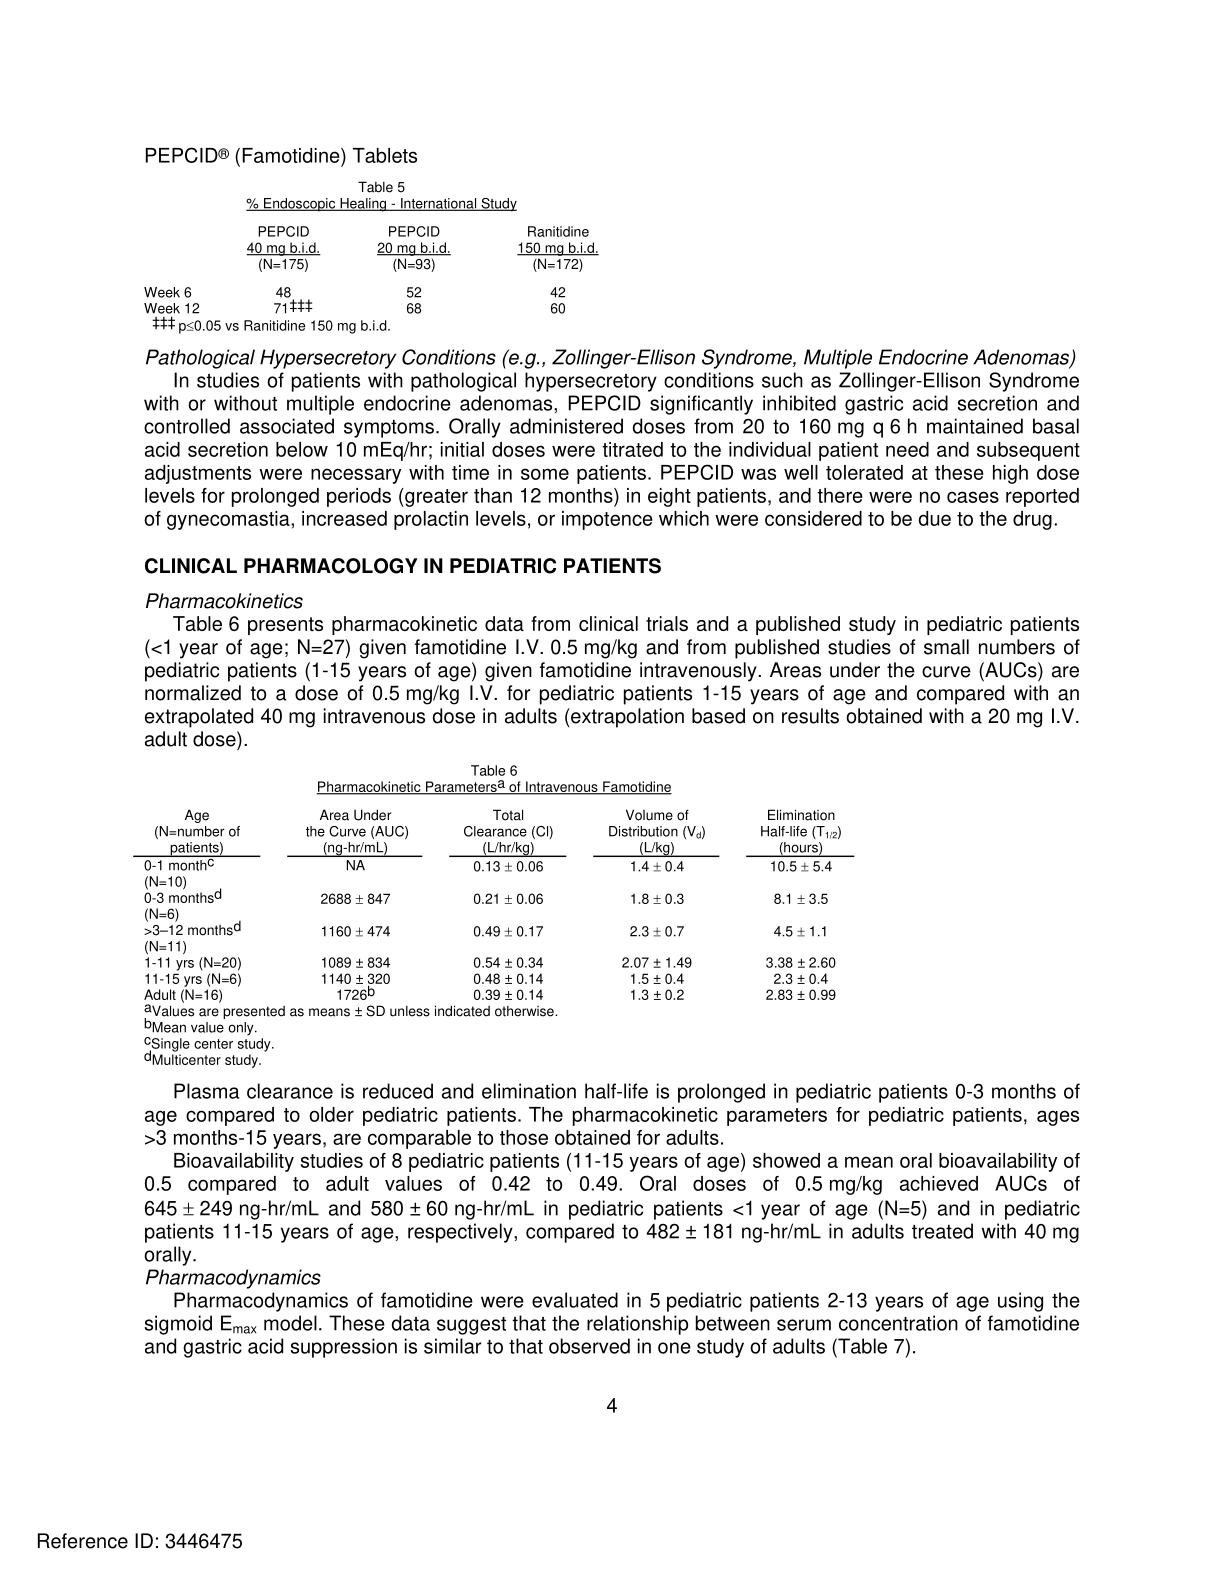nolines: (132, 800, 854, 1004), (138, 221, 600, 316)
